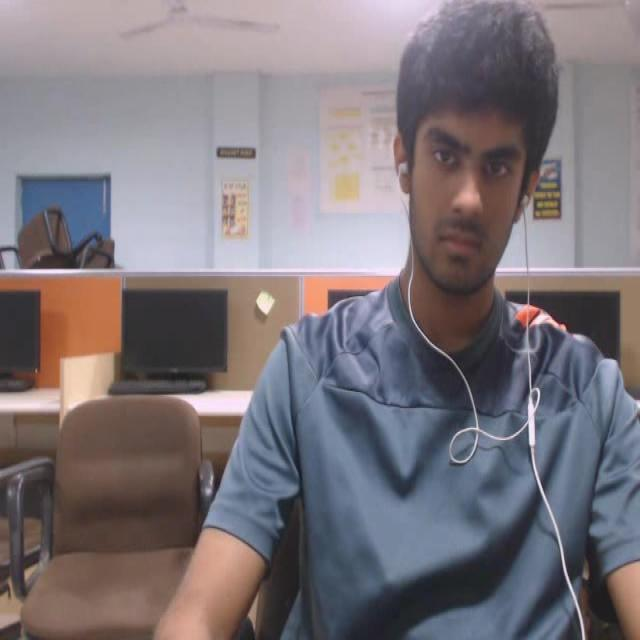Bored: (360, 0, 568, 297)
